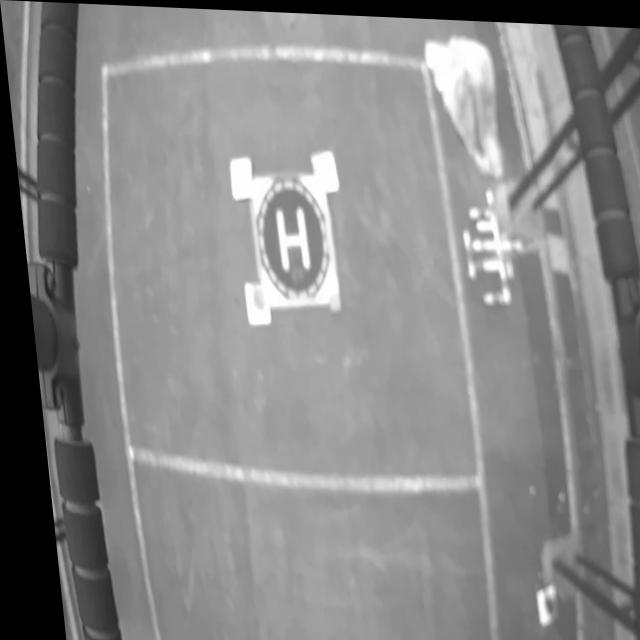Helipad: (271, 204, 306, 270)
